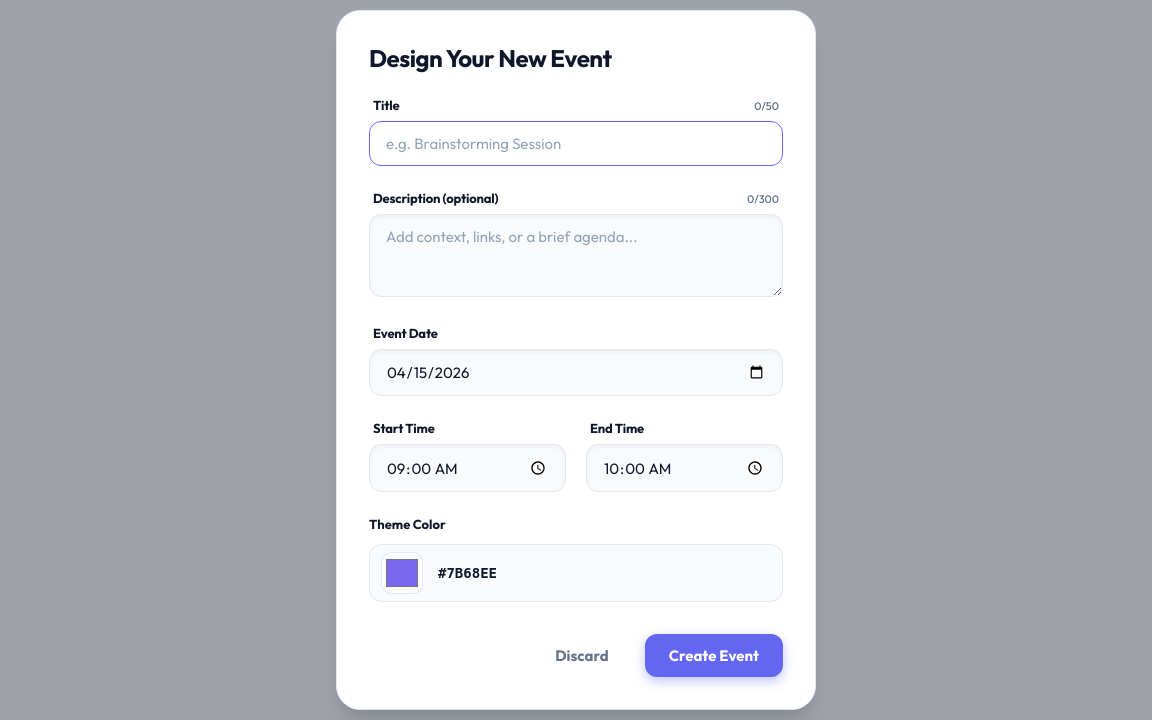
EventFormModal › renders form and validates required fields
Expected: the heading "Design Your New Event" is shown, x1=369 y1=43 x2=612 y2=73
Note: Submit without title
Click the button "Create Event": coordinates (714, 655) x1=645 y1=634 x2=783 y2=677
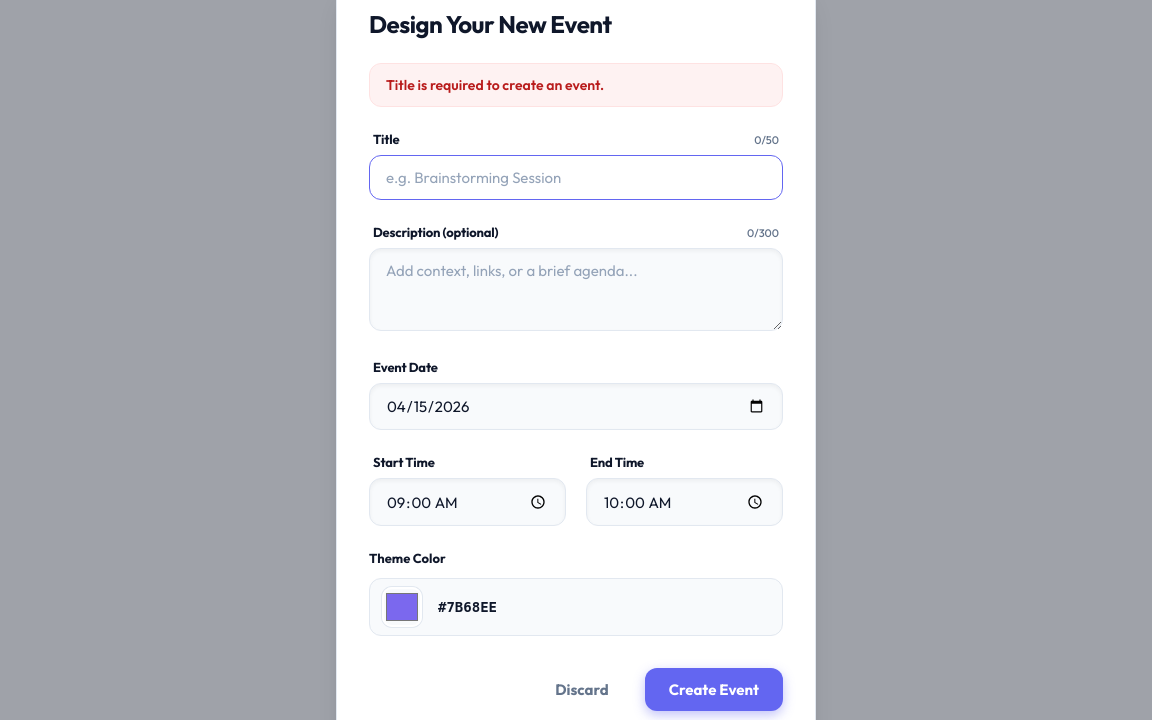
Expected: the text "Title is required to create an event." is shown, x1=369 y1=63 x2=783 y2=107
